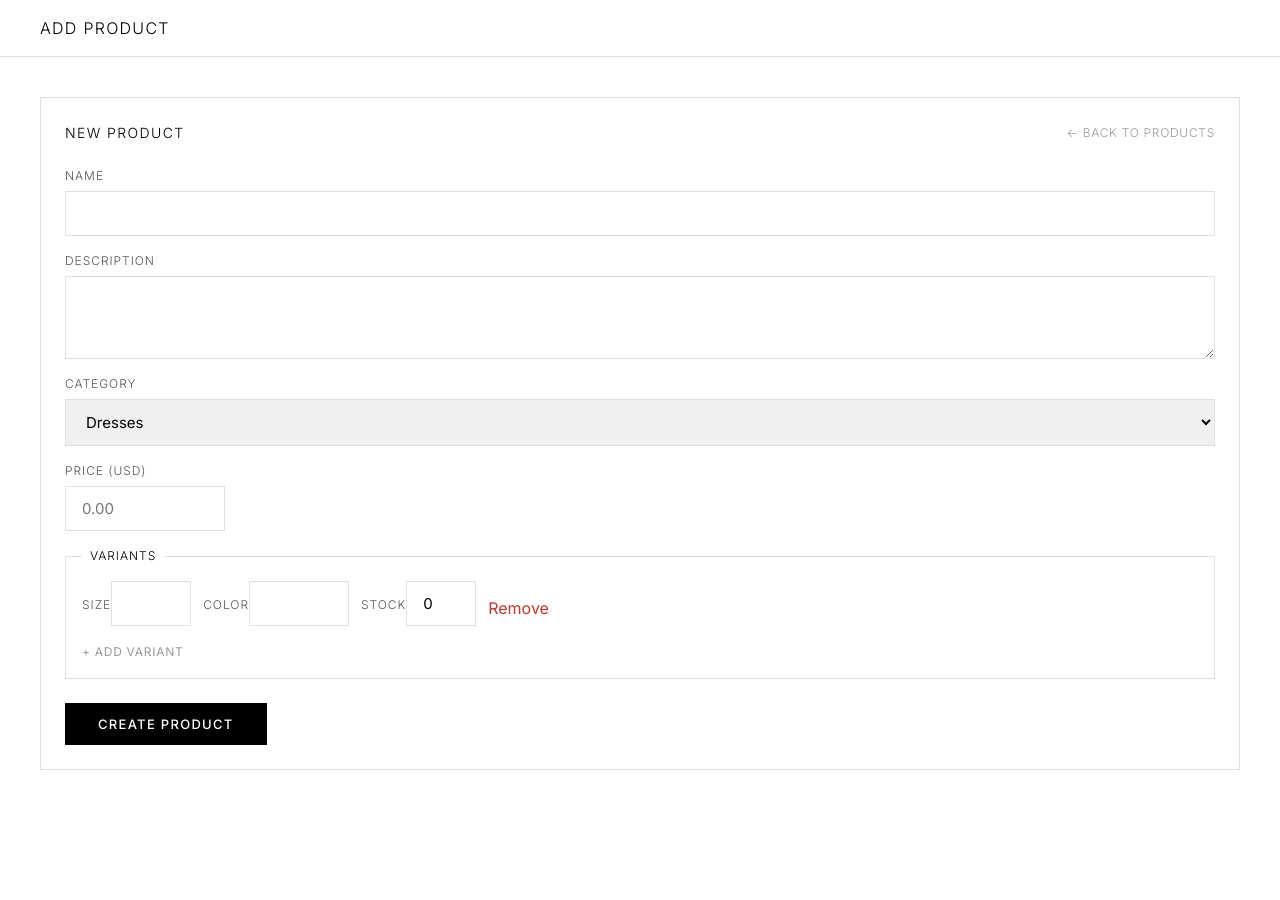
Scenario: AdminProductForm › create mode › shows price-required error when price is negative
In the field labelled "Name": (640, 214) [65, 191, 1215, 236], type "Test Dress"
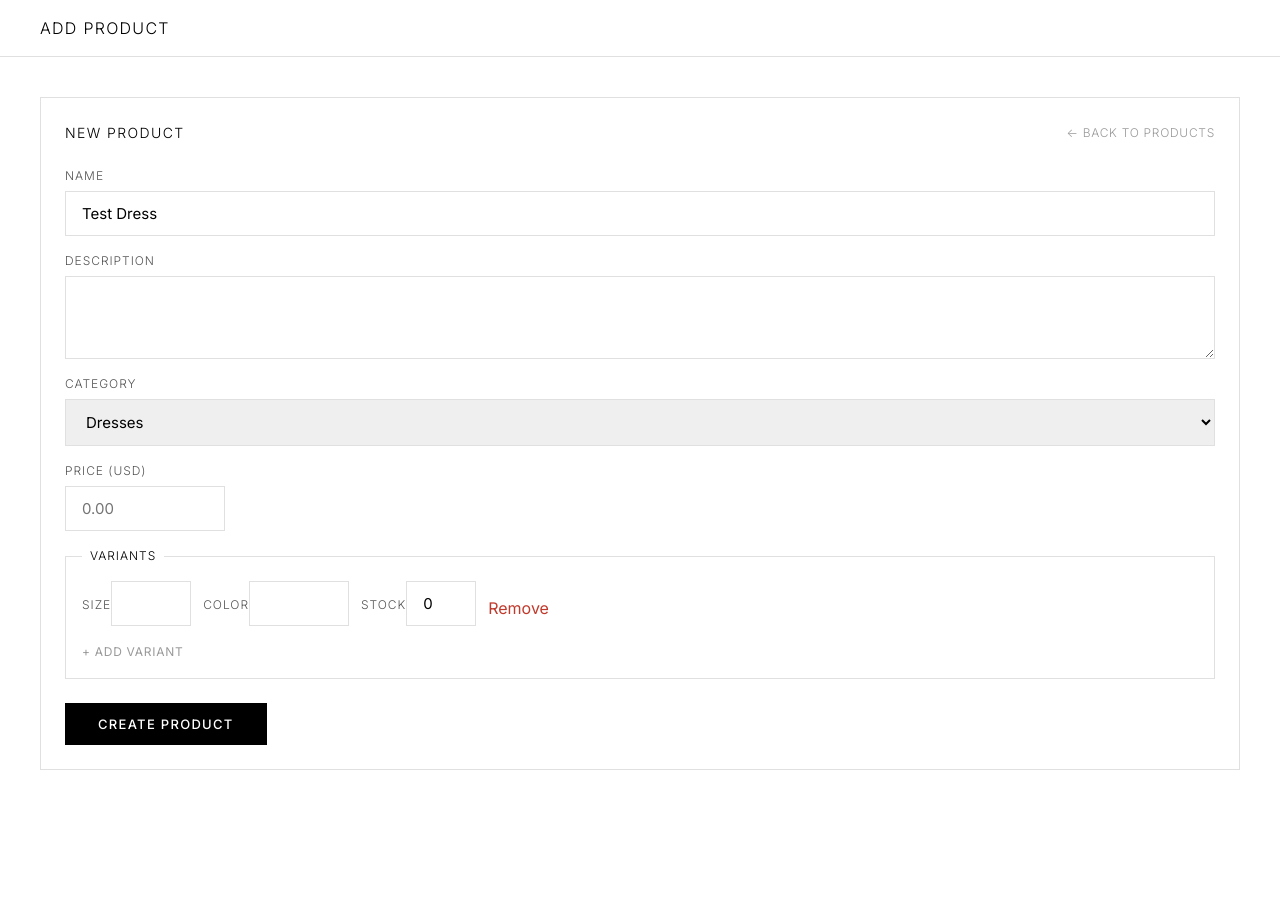
In the number field labelled "Price (USD)": (145, 508) [65, 486, 225, 531], type "-5"
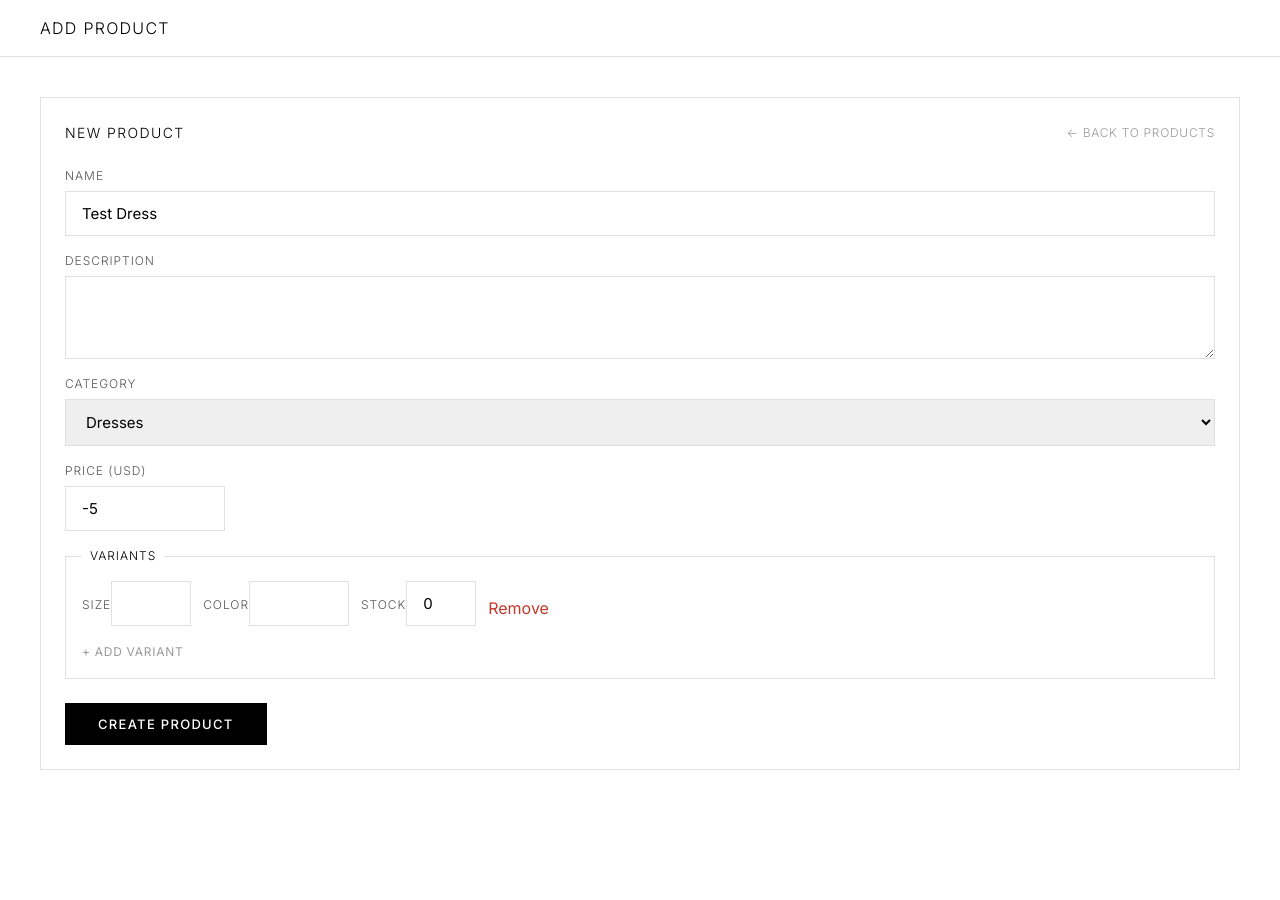
In the field labelled "Size": (151, 604) [111, 581, 191, 626], type "S"
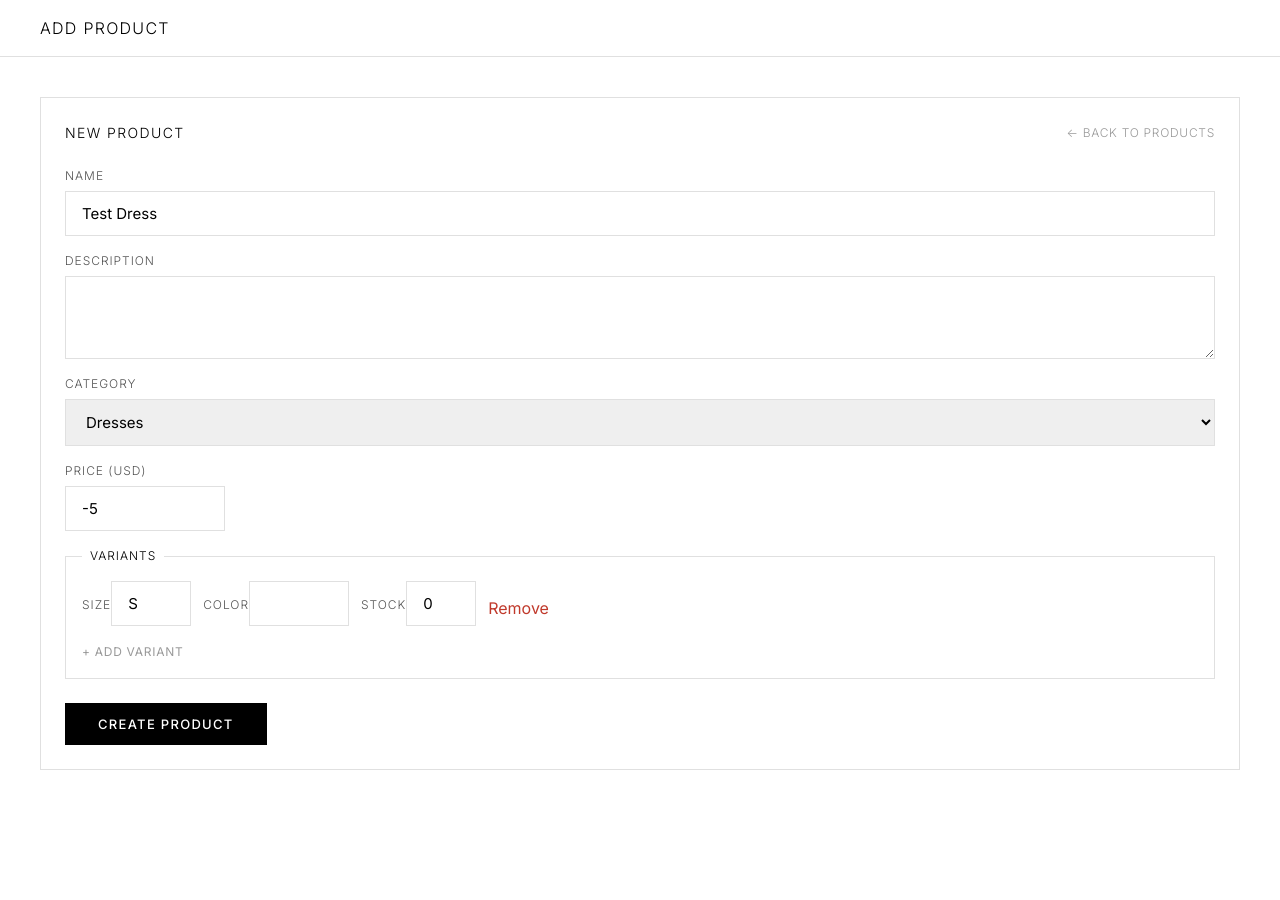
In the field labelled "Color": (299, 604) [249, 581, 349, 626], type "Black"
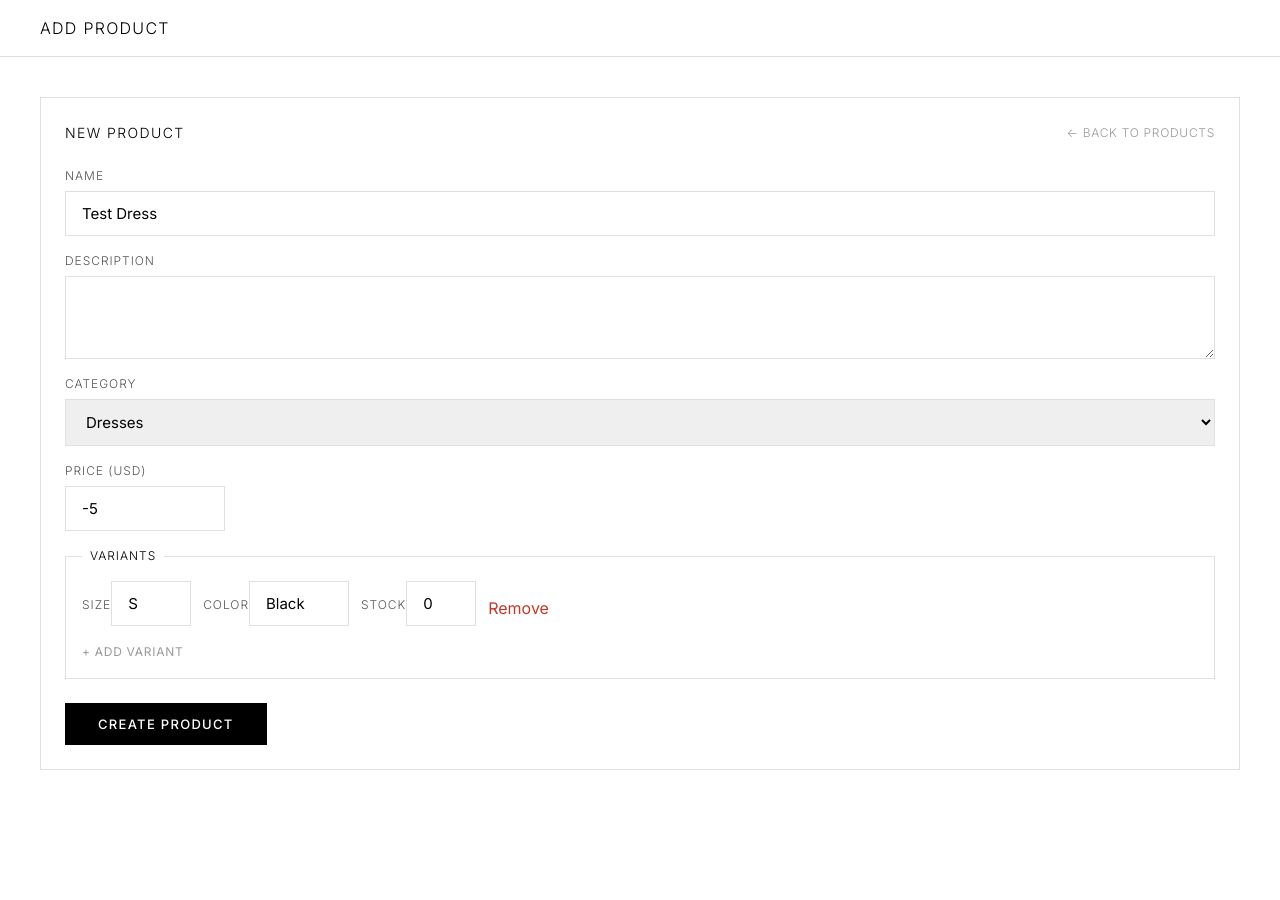
Click the button "Create Product": (166, 724) [65, 703, 267, 745]
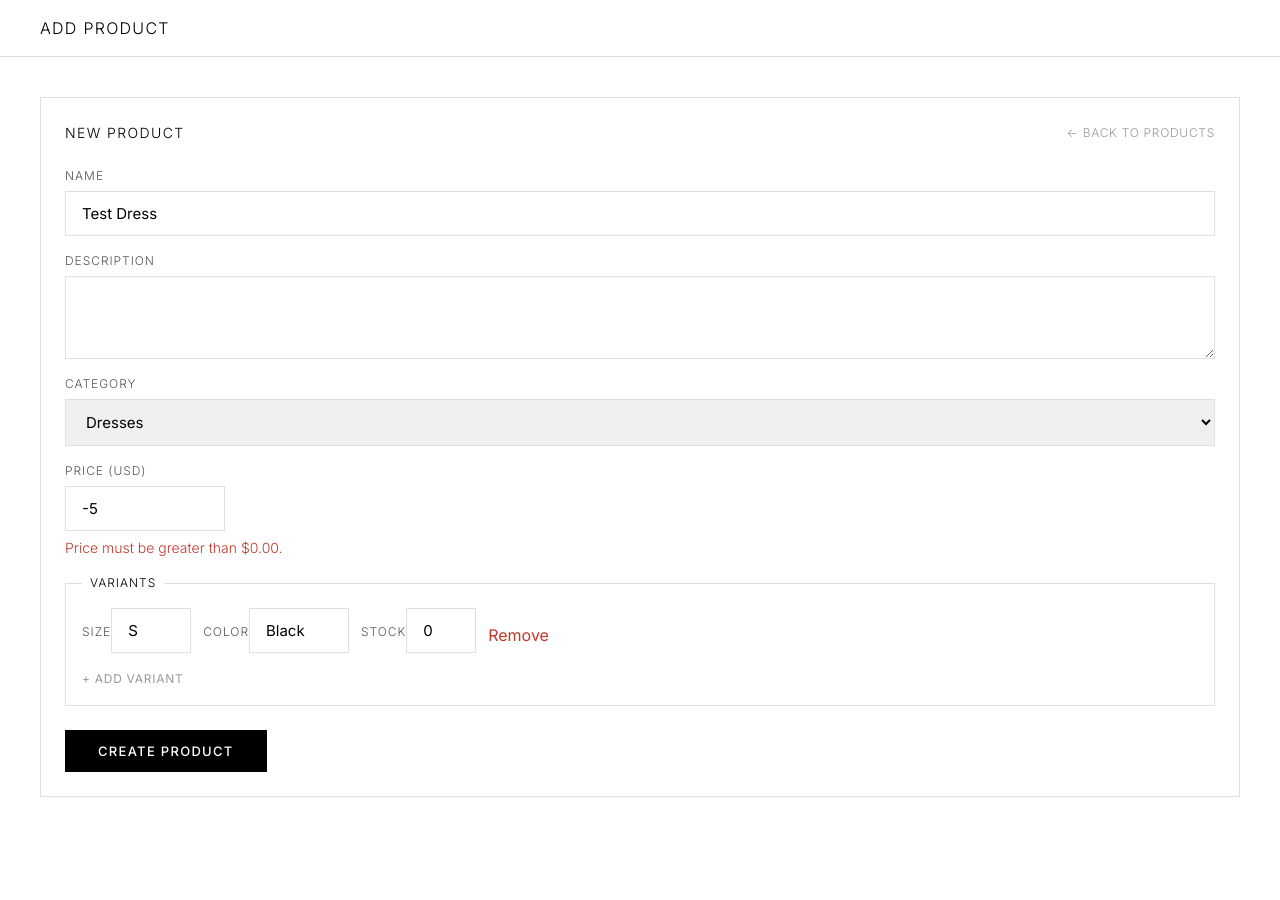
Expected: the message shows "Price must be greater than", [65, 539, 283, 556]
